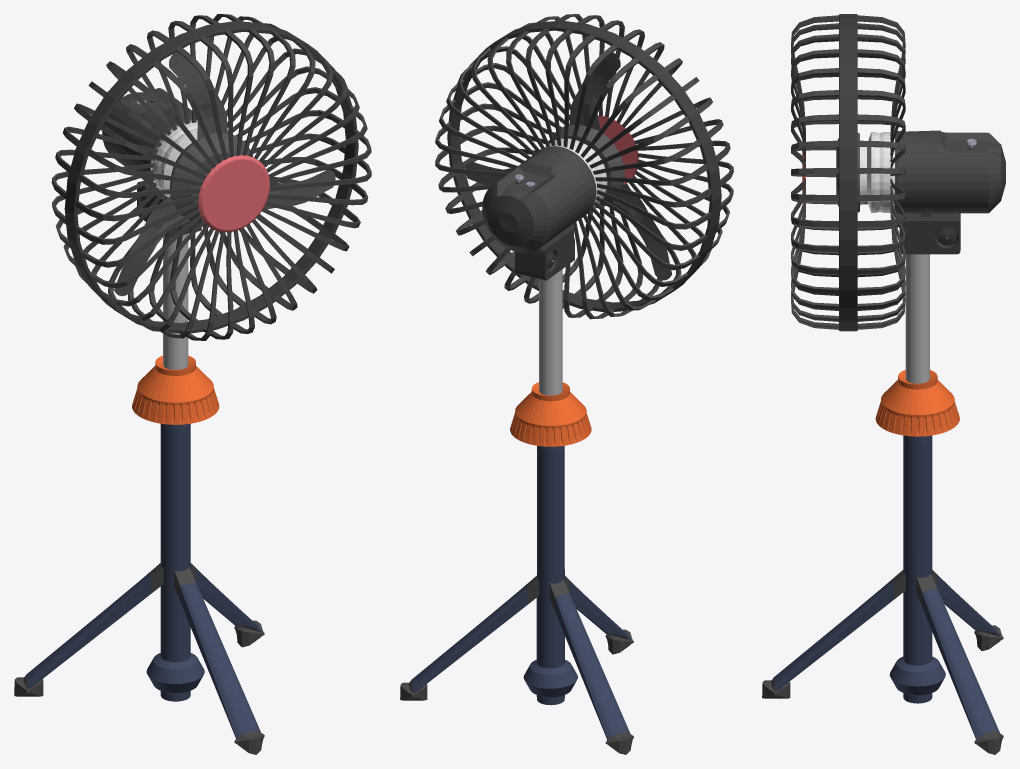
Rendered from fan.glb.
3 views of the same model, side by side, from view 1: azimuth 30°, elevation 25°; view 2: azimuth 150°, elevation 25°; view 3: azimuth 270°, elevation 25° (orthographic). The views are drawn at different scales.
Parts seen in each view (by area): view 1: Fan Model; view 2: Fan Model; view 3: Fan Model.
Part boxes in pixels (box(x1,y1,x2,y2)): Fan Model: box(14, 14, 371, 754); Fan Model: box(400, 14, 733, 754); Fan Model: box(762, 14, 1005, 754).
Bounding box in the file's own units: 1.67 × 3.88 × 1.28.
